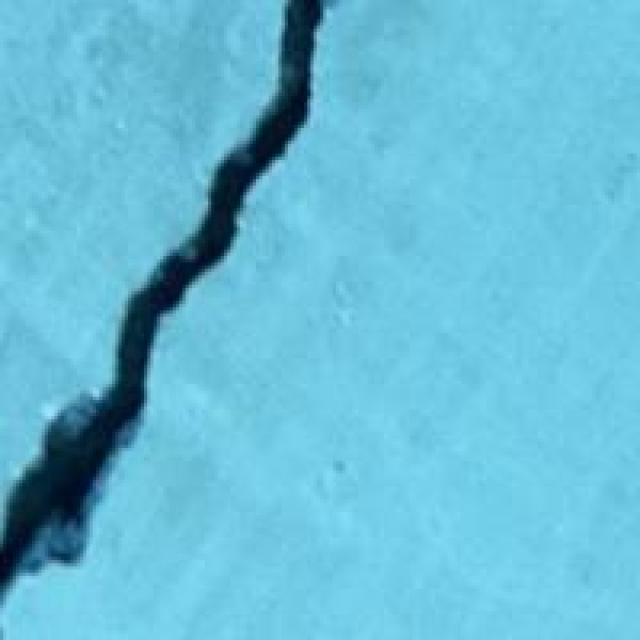Crack: (0, 0, 355, 637)
